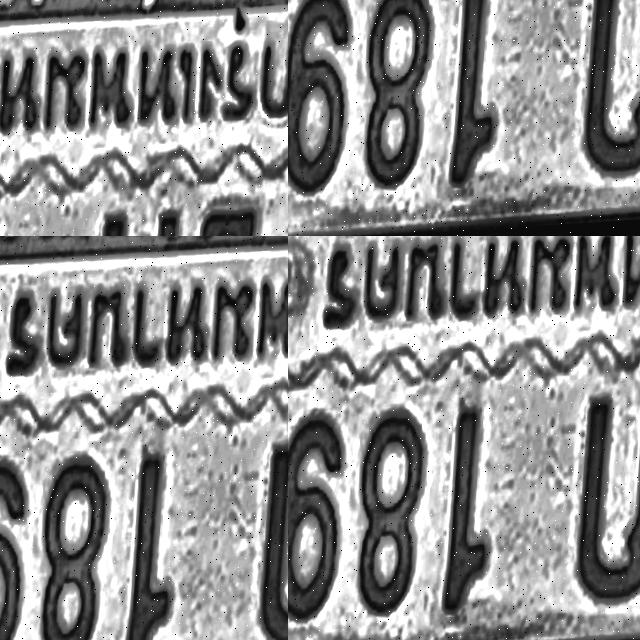license-plate: (288, 236, 640, 640), (62, 416, 288, 640)
